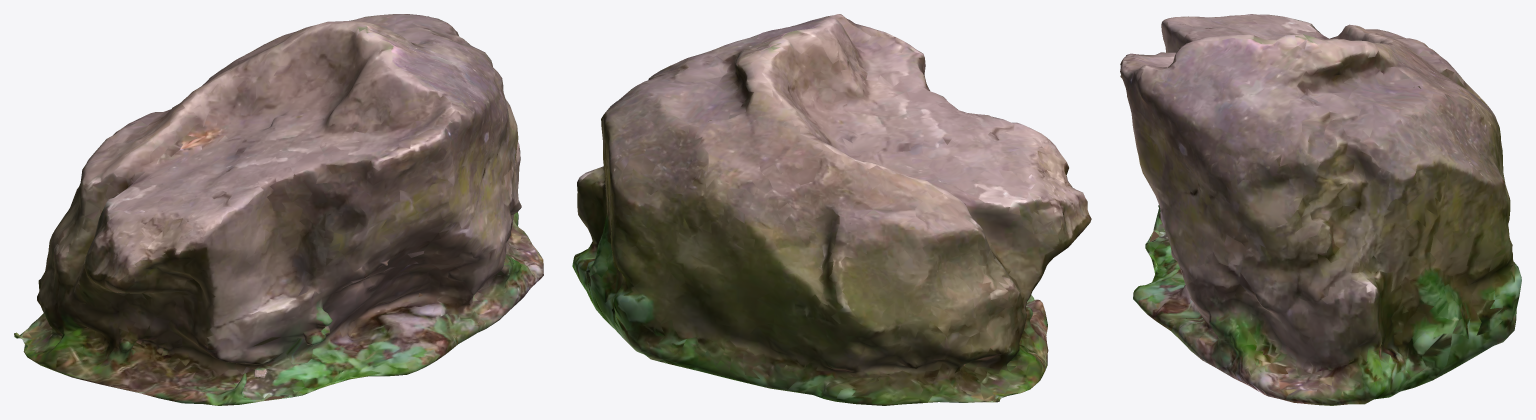
The picture shows the model from 3 angles, left to right: view 1: azimuth 30°, elevation 25°; view 2: azimuth 150°, elevation 25°; view 3: azimuth 270°, elevation 25°; orthographic projection. The views are drawn at different scales.
Visible parts, largest first — view 1: Fels; view 2: Fels; view 3: Fels.
Boxes of the visible parts, x1,y1,x2,y2 form: Fels: (14,14,543,405); Fels: (572,14,1091,405); Fels: (1120,14,1521,405).
Bounding box in the file's own units: 4.56 × 2.43 × 3.14.
Materials: 1 (1 with a texture image).
